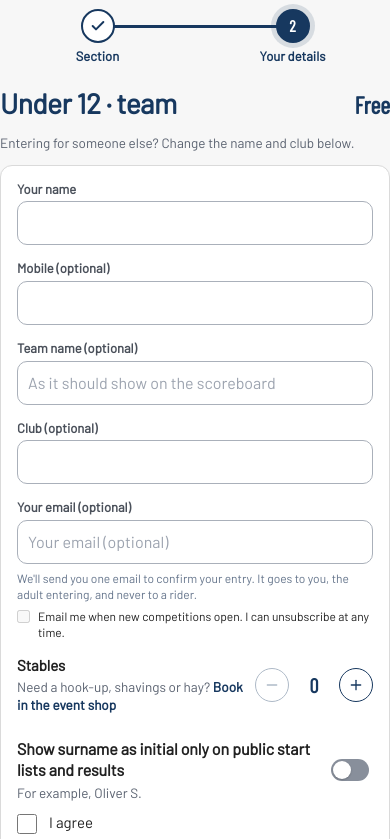
Test case: the entry form › sends the address, and the opt-in only when the box is ticked
Type "Alice Rider" into the field labelled "Your name".
click(195, 224); type("Alice Rider")  # box [17, 202, 373, 246]
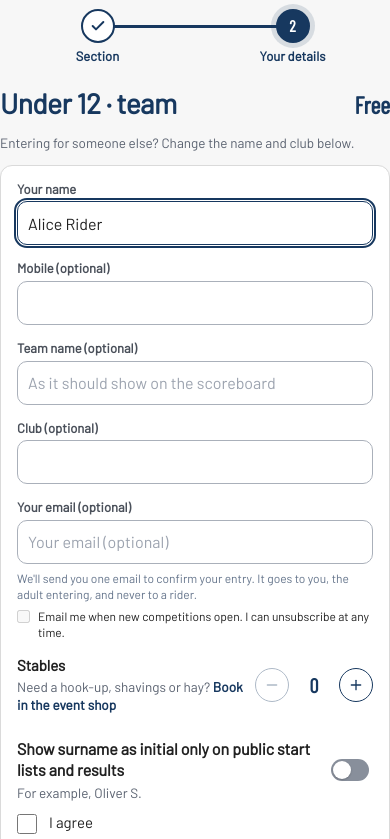
Click the checkbox labelled "I agree".
click(27, 824)  # box [17, 814, 37, 834]
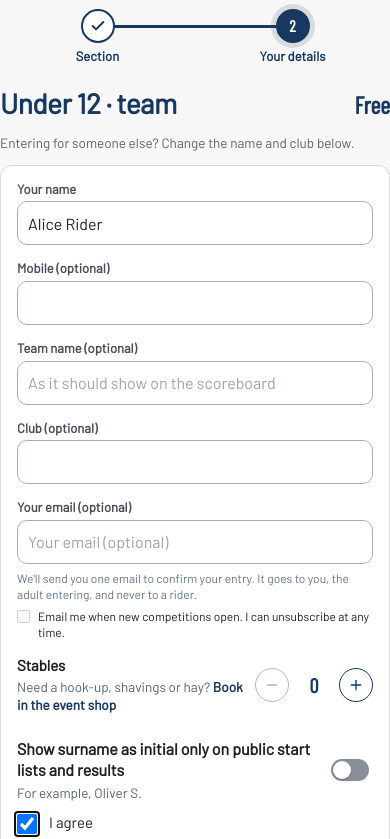
Type "parent@example.org" into the field labelled "Your email (optional)".
click(195, 542); type("parent@example.org")  # box [17, 520, 373, 564]
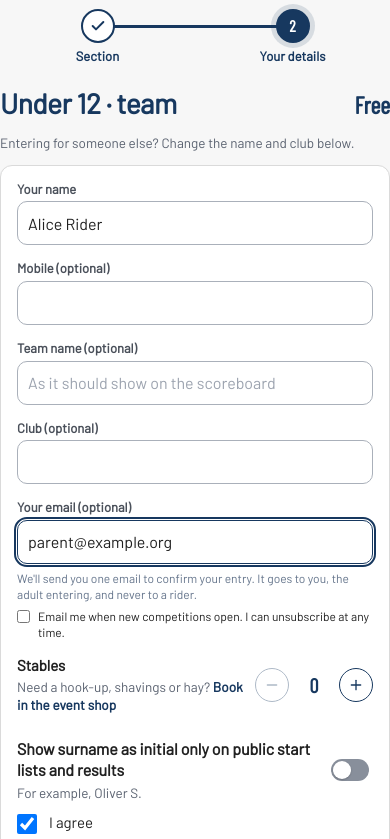
Click the checkbox labelled "Email me when new competitions open".
click(24, 616)  # box [17, 610, 30, 623]
(page scrolled)
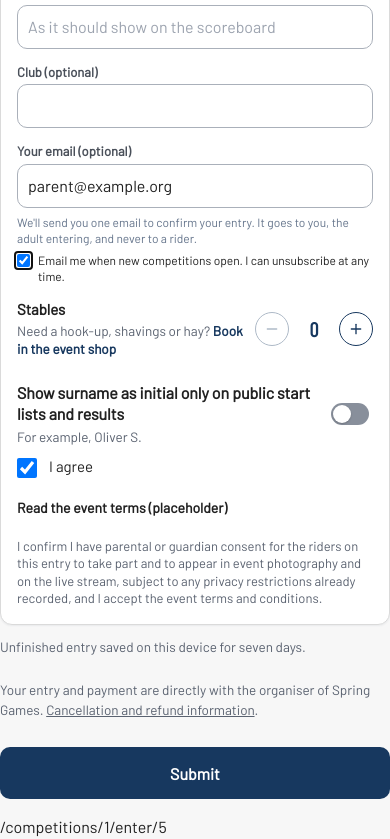
Click the button "Submit".
click(195, 773)  # box [0, 747, 389, 799]
(page scrolled)
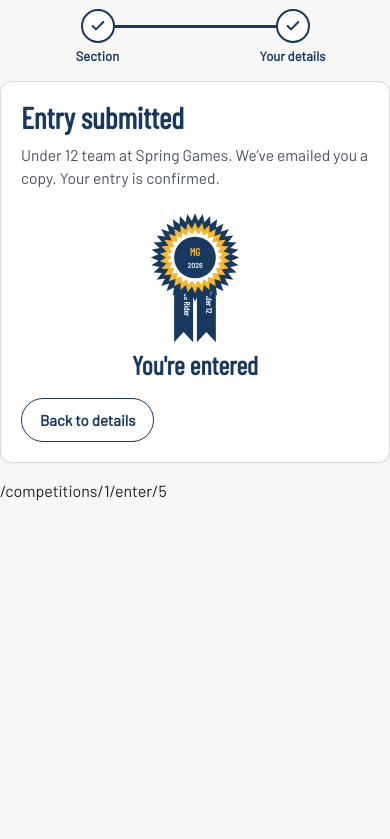
Check: the text "We’ve emailed you a copy" is shown, box [21, 145, 368, 187]
